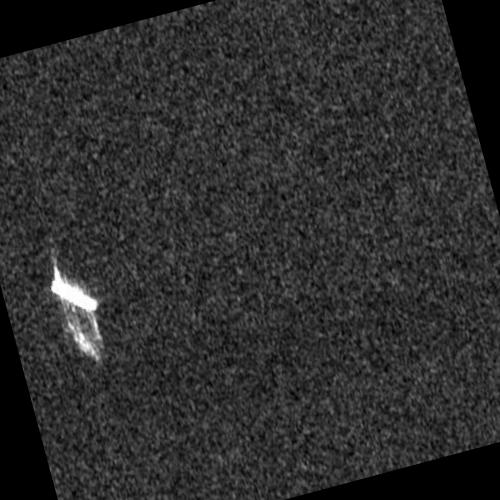ship: (51, 277, 100, 314)
